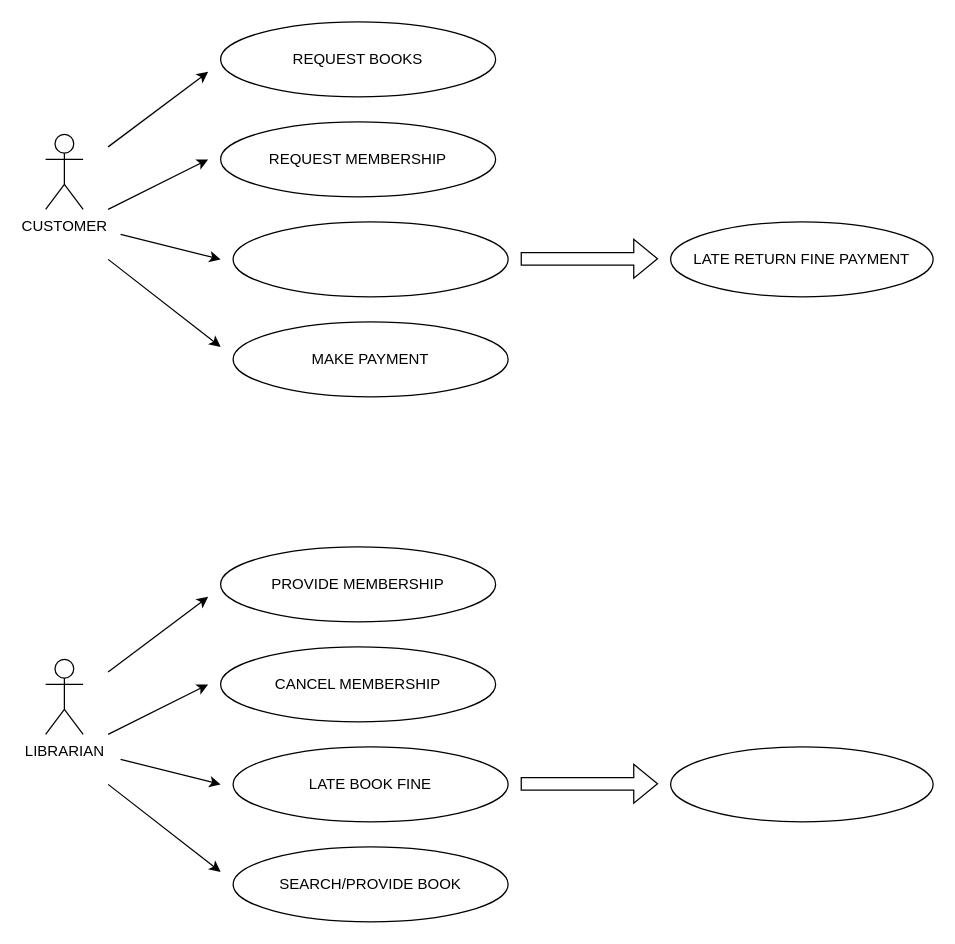
The diagram is 955 pixels wide and 944 high, and some of its shapes have lost their labels. Here are the shapes that lost their labels. From the top down, the centre of each, then its label:
At point 370,259: "REQUEST RETURN".
At point 801,784: "TAKE FINE".
